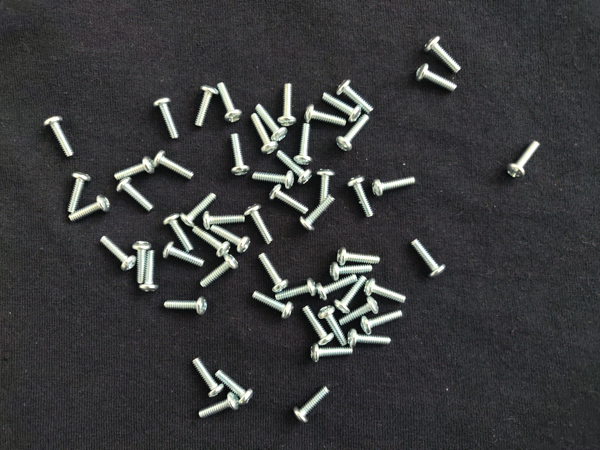shortscrew: (424, 36, 463, 74), (116, 177, 155, 214), (412, 239, 446, 280), (293, 387, 330, 424), (201, 254, 239, 290), (44, 115, 75, 159), (180, 193, 217, 229), (333, 276, 368, 314), (415, 64, 459, 94), (303, 306, 336, 346), (154, 150, 196, 181), (277, 150, 313, 186), (336, 78, 373, 113), (100, 237, 137, 272), (216, 371, 254, 405), (258, 253, 289, 294), (299, 196, 335, 231), (506, 141, 540, 178), (336, 114, 369, 152), (193, 358, 224, 398), (252, 291, 294, 320), (257, 104, 288, 143), (275, 278, 318, 306), (269, 184, 309, 214), (163, 213, 193, 253), (340, 297, 380, 327), (245, 204, 274, 245), (68, 196, 112, 223), (365, 278, 409, 305), (193, 227, 231, 258), (323, 92, 362, 122), (162, 242, 205, 269), (348, 175, 374, 219), (212, 225, 251, 254), (317, 274, 358, 301), (252, 113, 278, 155), (361, 309, 403, 335), (199, 392, 240, 418), (194, 85, 218, 128), (67, 172, 91, 215), (218, 83, 243, 123), (337, 246, 384, 267), (154, 98, 178, 139), (305, 105, 347, 127), (115, 157, 155, 180), (330, 261, 373, 282), (372, 176, 415, 196), (165, 297, 208, 317), (231, 134, 251, 177), (140, 251, 160, 293), (293, 124, 313, 165), (133, 241, 152, 284), (310, 344, 353, 363), (203, 211, 246, 230), (252, 171, 294, 190), (347, 329, 391, 347), (278, 84, 296, 127), (318, 169, 336, 205)
